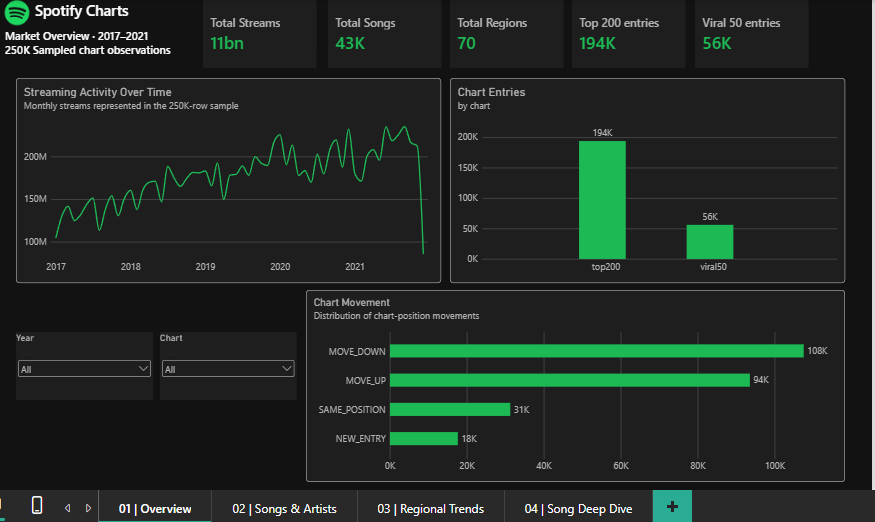

The dashboard page shown, as its layout file describes it:
{"tool":"powerbi","page":{"name":"01 | Overview","canvas":[1920,1080],"ordinal":0},"visuals":[{"type":"textbox","box":[10.1,0,390.6,133.5],"z":0},{"type":"cardVisual","fields":{"Data":["_Measures.Total Streams"]},"box":[447.4,0,250,149.9],"z":1000},{"type":"cardVisual","fields":{"Data":["_Measures.Total Songs"]},"box":[722.9,0,250,149.9],"z":2000},{"type":"cardVisual","fields":{"Data":["_Measures.Total Regions"]},"box":[991.8,0,250,149.9],"z":3000},{"type":"cardVisual","fields":{"Data":["_Measures.Top 200 entries"]},"box":[1260.7,0,250,149.9],"z":4000},{"type":"cardVisual","fields":{"Data":["_Measures.Viral 50 entries"]},"box":[1531.8,0,250,149.9],"z":5000},{"type":"lineChart","title":"Streaming Activity Over Time","fields":{"Y":["_Measures.Total Streams"],"Category":["dim_date.date.Variation.Date Hierarchy.Year","dim_date.date.Variation.Date Hierarchy.Month"]},"box":[35.3,171.9,936.7,451.8],"z":6000},{"type":"clusteredColumnChart","fields":{"Category":["dim_chart.chart"],"Y":["_Measures.Chart Entries"]},"box":[991.8,171.9,870.6,451.8],"z":7000},{"type":"clusteredBarChart","title":"Chart Movement","fields":{"Category":["fact_chart.trend"],"Y":["_Measures.Chart Entries"]},"box":[674.4,639.2,1188,423.2],"z":8000},{"type":"slicer","title":"Year","fields":{"Values":["dim_date.year"]},"box":[35.3,731.8,302,150],"z":9000},{"type":"slicer","title":"Chart","fields":{"Values":["dim_chart.chart"]},"box":[352.7,731.8,301,150],"z":9001},{"type":"image","box":[0,0,75,56],"z":9002}]}

Visuals, with their boxes on the page's 1920x1080 design canvas (x1, y1, x2, y2). These are canvas units, not pixel positions in the 875x522 screenshot, which may show the page scaled, cropped or inside an application window:
textbox: rect(10, 0, 401, 134)
cardVisual - _Measures.Total Streams: rect(447, 0, 697, 150)
cardVisual - _Measures.Total Songs: rect(723, 0, 973, 150)
cardVisual - _Measures.Total Regions: rect(992, 0, 1242, 150)
cardVisual - _Measures.Top 200 entries: rect(1261, 0, 1511, 150)
cardVisual - _Measures.Viral 50 entries: rect(1532, 0, 1782, 150)
"Streaming Activity Over Time" lineChart: rect(35, 172, 972, 624)
clusteredColumnChart - dim_chart.chart x _Measures.Chart Entries: rect(992, 172, 1862, 624)
"Chart Movement" clusteredBarChart: rect(674, 639, 1862, 1062)
"Year" slicer: rect(35, 732, 337, 882)
"Chart" slicer: rect(353, 732, 654, 882)
image: rect(0, 0, 75, 56)
